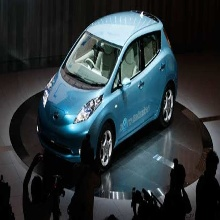no damage: (37, 10, 180, 171)
